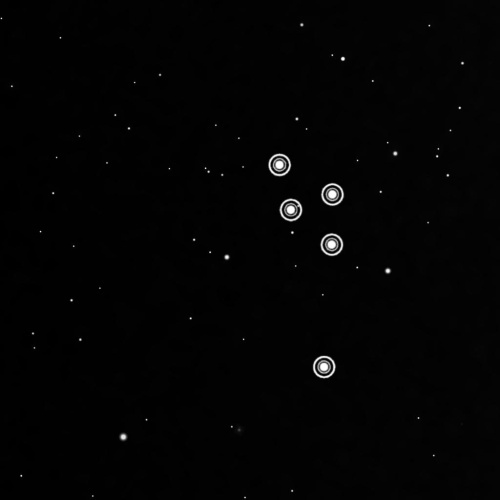delphinus: (256, 142, 353, 389)
